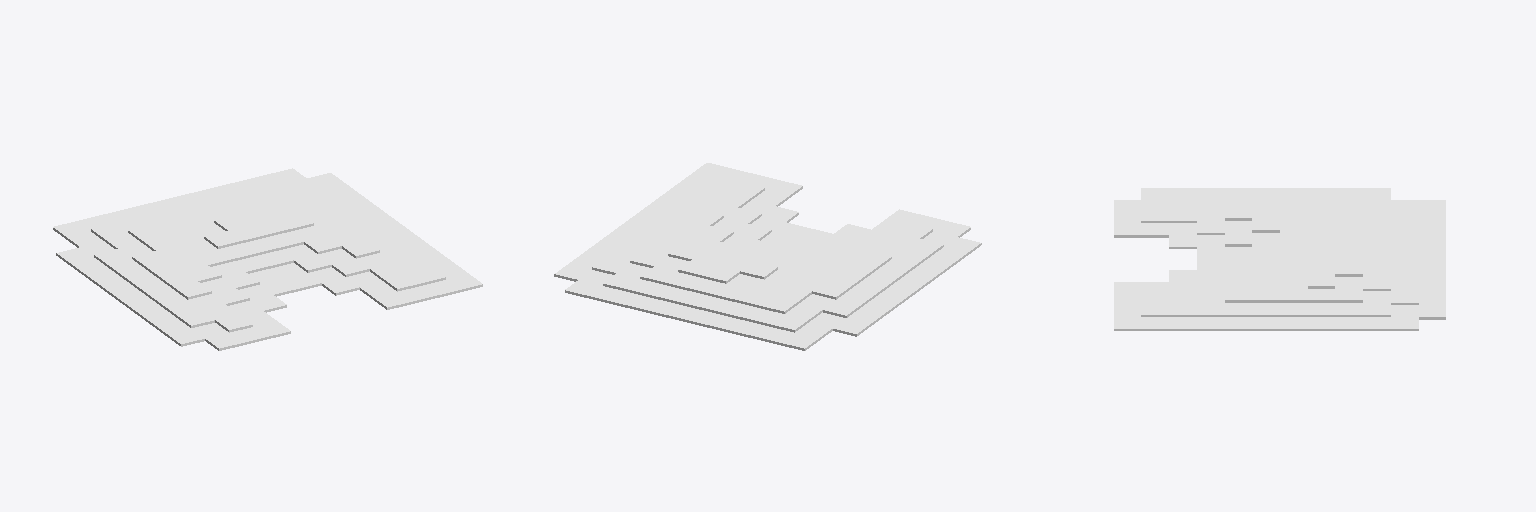
File: Island-A.obj
The picture shows the model from 3 angles: view 1: azimuth 30°, elevation 25°; view 2: azimuth 150°, elevation 25°; view 3: azimuth 270°, elevation 25°; orthographic projection.
Parts seen in each view (by area): view 1: Island-A; view 2: Island-A; view 3: Island-A.
Part boxes in pixels (bbox=[...]): Island-A: bbox=[53, 168, 482, 350]; Island-A: bbox=[554, 163, 981, 350]; Island-A: bbox=[1114, 188, 1445, 330].
Size of the model in its own units: 120 by 4 by 120.